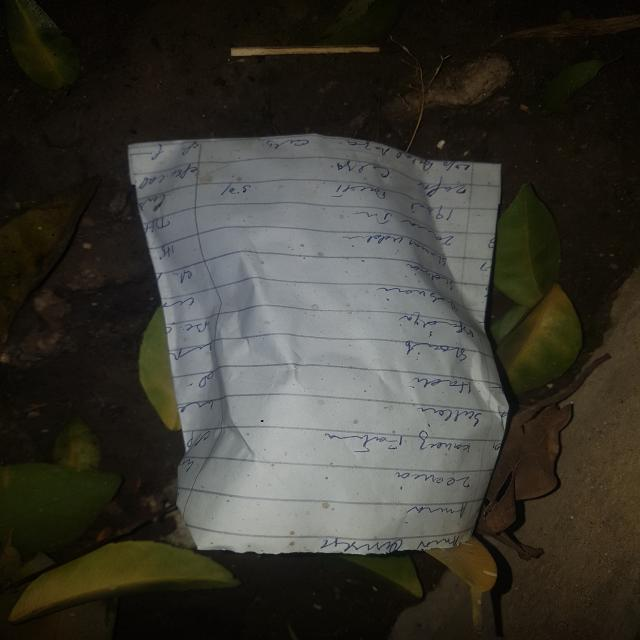electronic: (126, 133, 512, 556)
